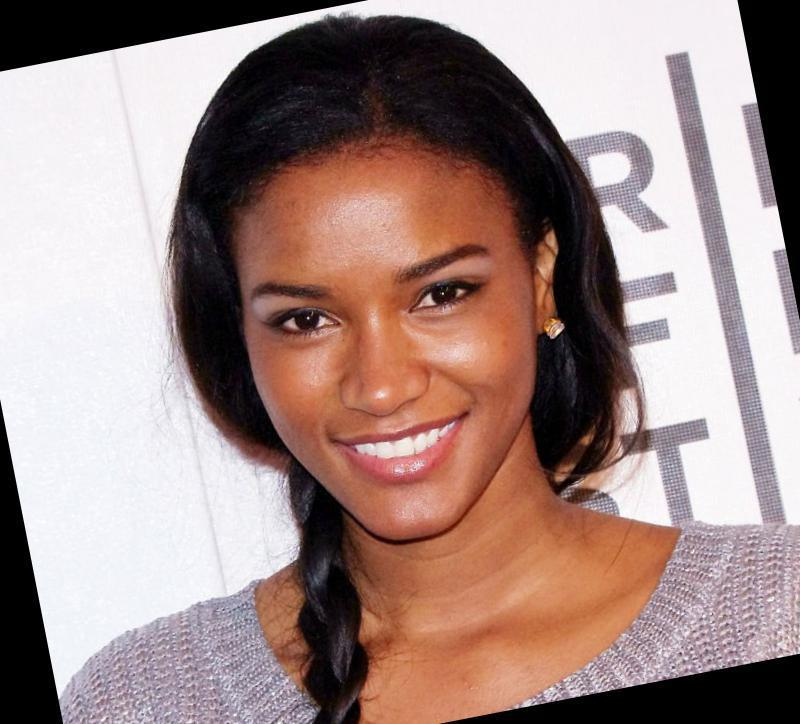Sober: (269, 167, 522, 494)
